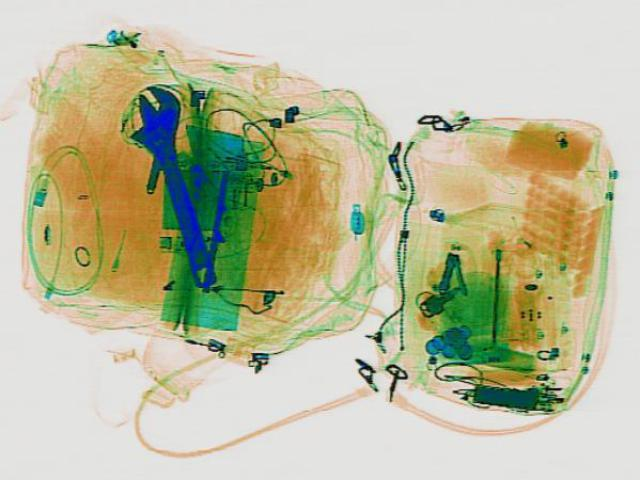Wrench: (109, 79, 243, 288)
